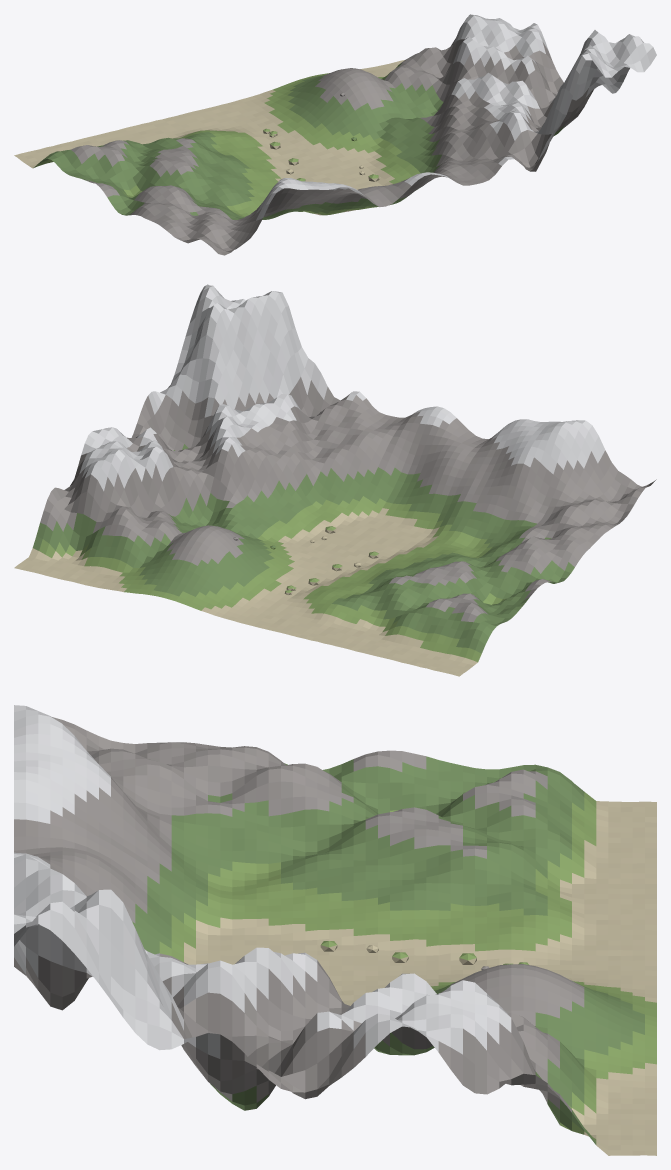
The model's file is terrain.glb.
The picture shows the model from 3 angles, top to bottom: view 1: azimuth 30°, elevation 25°; view 2: azimuth 150°, elevation 25°; view 3: azimuth 270°, elevation 25°; orthographic projection. The views are drawn at different scales.
Parts seen in each view (by area): view 1: Terrain_Valley; view 2: Terrain_Valley; view 3: Terrain_Valley.
Boxes of the visible parts, box(x1,y1,x2,y2) form: Terrain_Valley: box(14, 14, 656, 255); Terrain_Valley: box(14, 284, 656, 676); Terrain_Valley: box(14, 705, 656, 1155).
Bounding box in the file's own units: 104 × 33.75 × 79.5.
